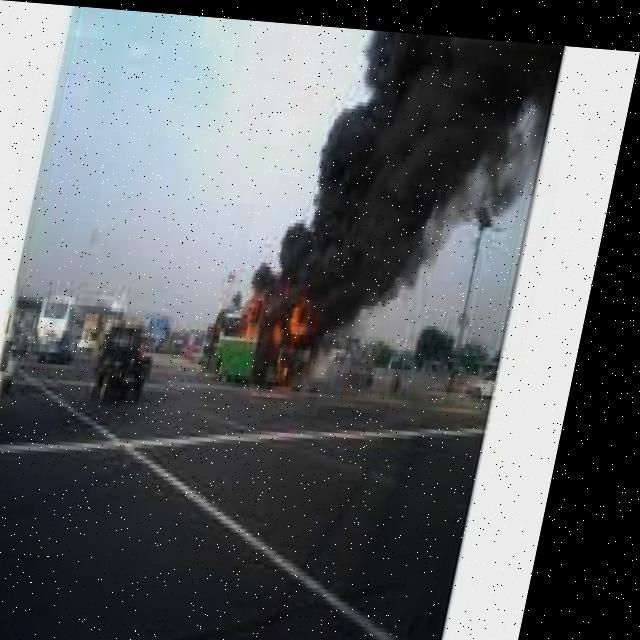Fire: (224, 270, 346, 345)
